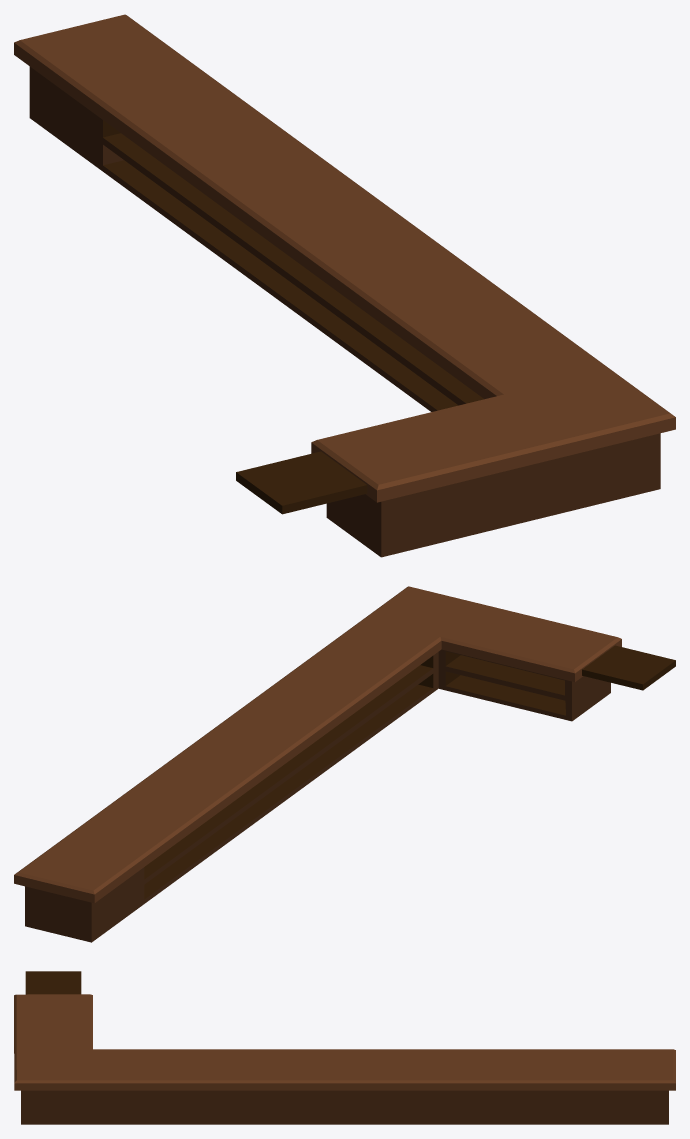
The model's file is Bigger_Bar.fbx.
3 renders of one model, top to bottom at view 1: azimuth 30°, elevation 25°; view 2: azimuth 150°, elevation 25°; view 3: azimuth 270°, elevation 25°, orthographic. The views are drawn at different scales.
Visible parts, largest first — view 1: Bar; view 2: Bar; view 3: Bar.
Boxes of the visible parts, x1,y1,x2,y2 form: Bar: (14,14,675,557); Bar: (14,586,675,942); Bar: (14,971,675,1124).
Bounding box in the file's own units: 618 × 118 × 1532.
